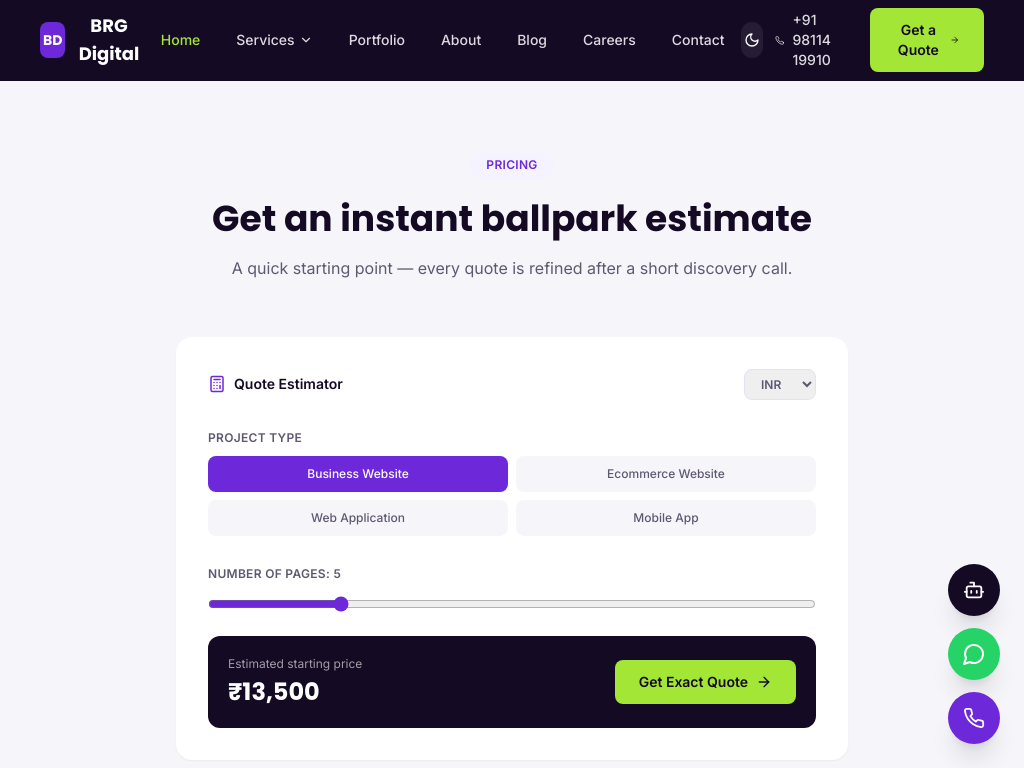
Test: Currency estimator › converts the estimate when currency changes
The image size is (1024, 768).
(page scrolled)
Select "USD" in the dropdown named "Currency" at (780, 384), box [744,369,816,400]
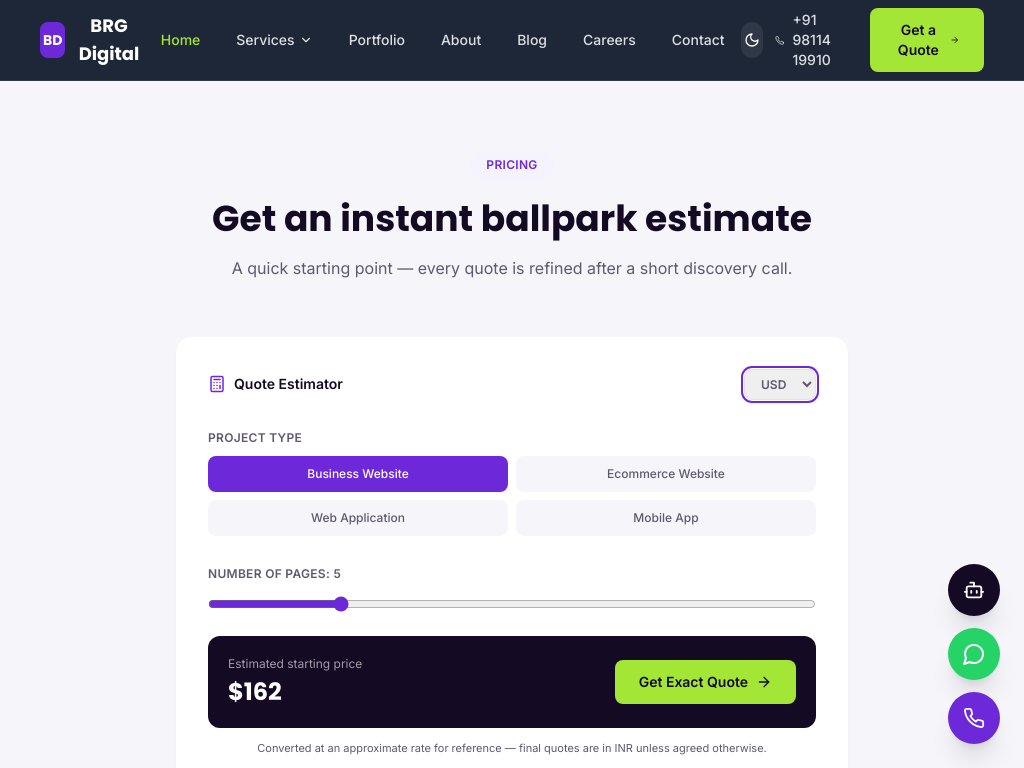
Expected: the text "$162" is shown, [228,675,282,708]
